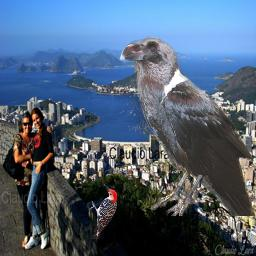Crow: (119, 36, 256, 216)
Woodpecker: (88, 184, 117, 239)
